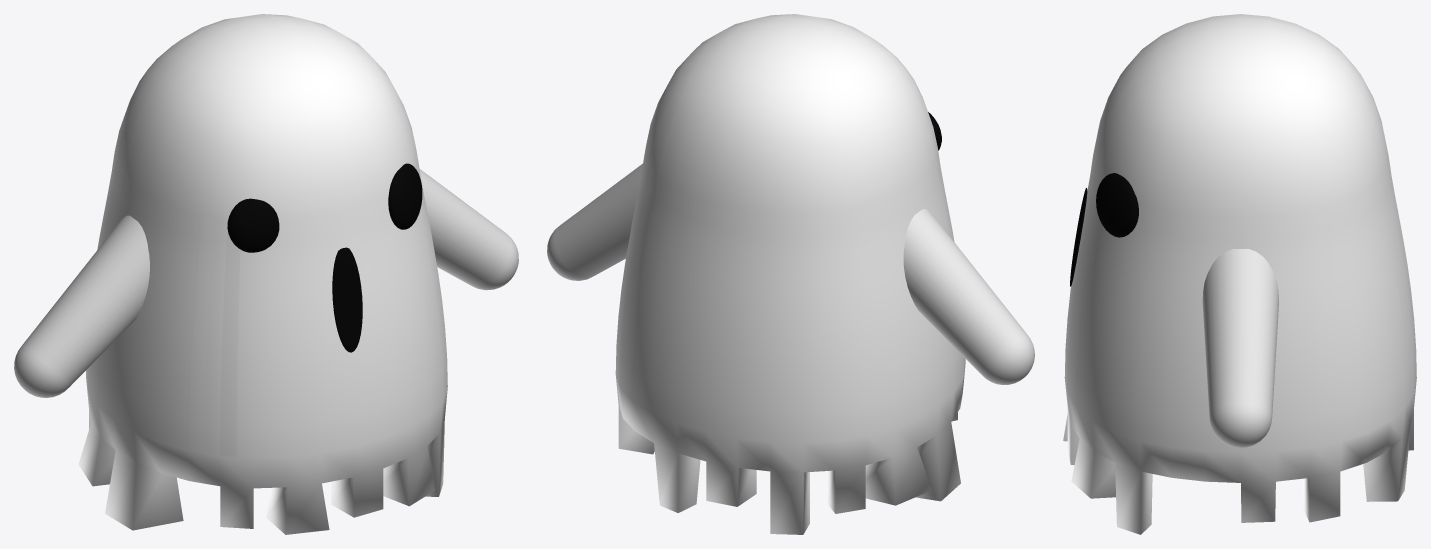
File: ghost.glb
3 renders of one model, left to right at view 1: azimuth 30°, elevation 25°; view 2: azimuth 150°, elevation 25°; view 3: azimuth 270°, elevation 25°, orthographic. The views are drawn at different scales.
Visible parts, largest first — view 1: Sphere; view 2: Sphere; view 3: Sphere.
Boxes of the visible parts, bbox=[...] form: Sphere: bbox=[14, 14, 518, 534]; Sphere: bbox=[547, 14, 1034, 534]; Sphere: bbox=[1063, 14, 1416, 534].
Size of the model in its own units: 3.29 by 2.87 by 2.05.
Materials: 6 (2 with a texture image).
